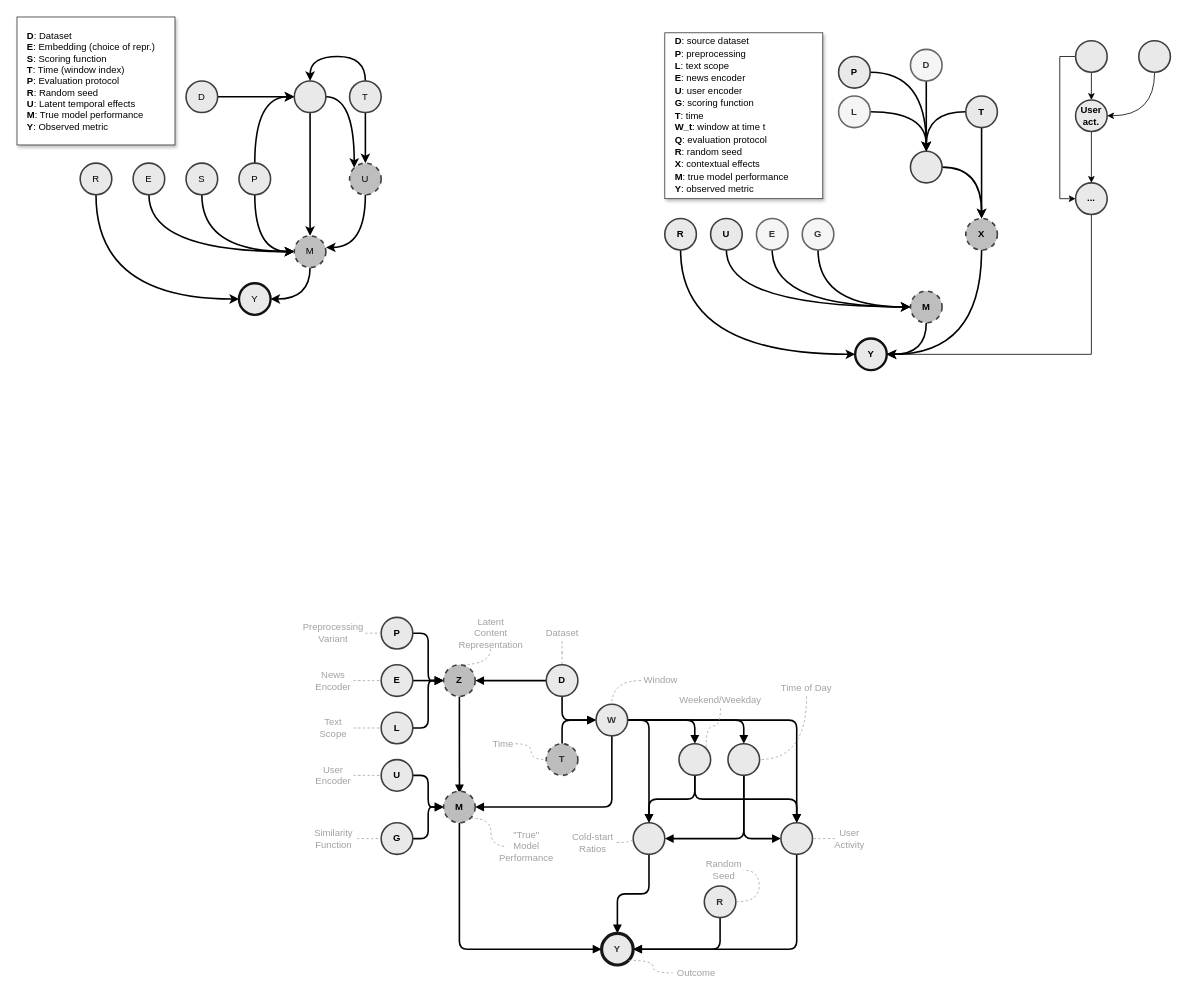
Image size: 1190x995. Some labels were removed from this diagram. Here are the shapes that lost their labels. From the top down, the centre of each, then its label:
the point at 1091,56: Time of d.
the point at 1154,56: weekend/ weekday
the point at 309,96: D t
the point at 925,166: W t
the point at 694,759: W/W
the point at 743,759: ToD
the point at 648,838: CS
the point at 796,838: UA
